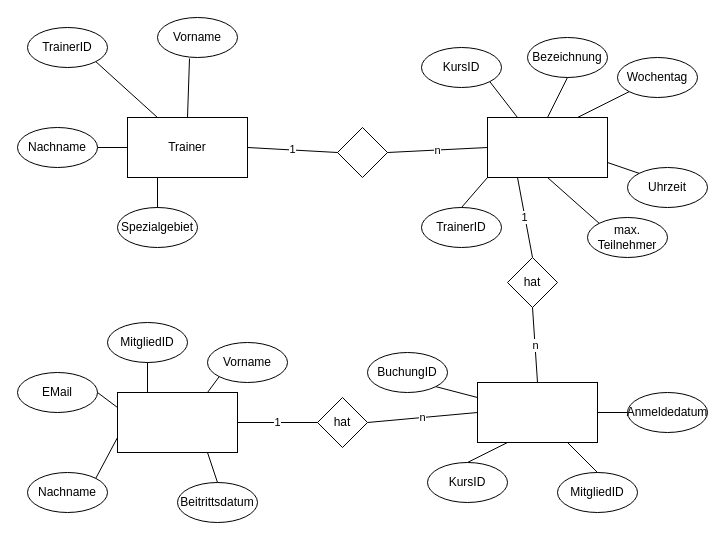
The diagram is 725 pixels wide and 540 high, and some of its shapes have lost their labels. The shapes that lost their labels are listed below. From the top down, each one's centre as x and y in pixels, then its label:
At (362,152): "leitet".
At (547,147): "Kurs".
At (177,422): "Mitglied".
At (537,412): "Buchung".
